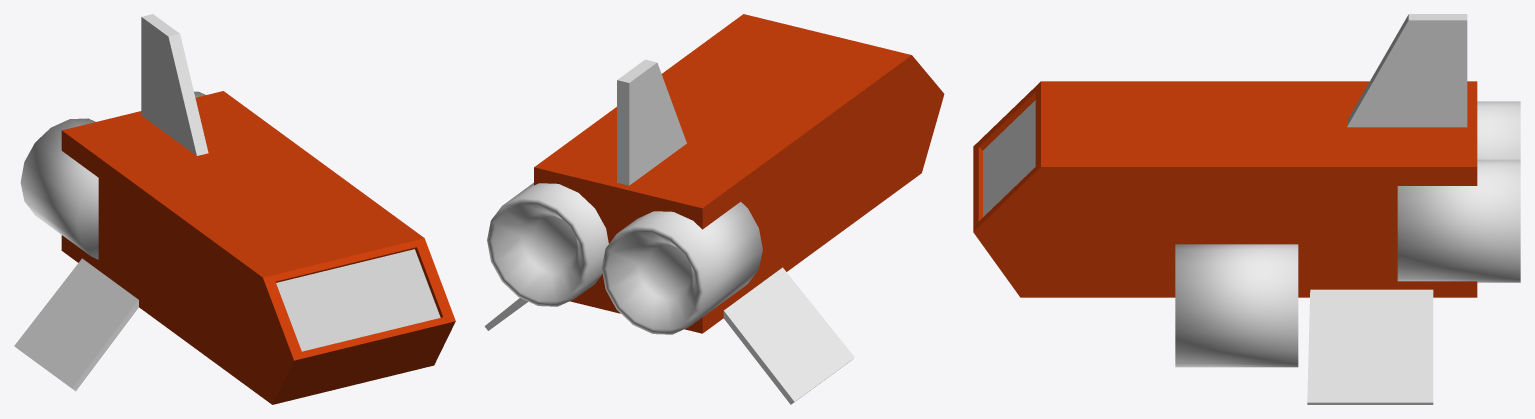
The model's file is nave.dae.
The picture shows the model from 3 angles, left to right: view 1: azimuth 30°, elevation 25°; view 2: azimuth 150°, elevation 25°; view 3: azimuth 270°, elevation 25°; orthographic projection. The views are drawn at different scales.
Visible parts, largest first — view 1: Cube, Cube-004, Cylinder-001, Cube-001; view 2: Cube, Cylinder-001, Cylinder-002, Cube-004, Cube-001; view 3: Cube, Cylinder-003, Cube-003, Cylinder-002, Cube-001, Cylinder-001.
Boxes of the visible parts, left/top/right/bottom form: Cube: left=61, top=91, right=455, bottom=404; Cube-004: left=14, top=258, right=138, bottom=391; Cylinder-001: left=20, top=118, right=98, bottom=259; Cube-001: left=141, top=14, right=208, bottom=155; Cube: left=534, top=14, right=944, bottom=333; Cylinder-001: left=601, top=202, right=762, bottom=334; Cylinder-002: left=487, top=183, right=608, bottom=306; Cube-004: left=723, top=267, right=854, bottom=404; Cube-001: left=617, top=59, right=686, bottom=185; Cube: left=973, top=81, right=1477, bottom=297; Cylinder-003: left=1175, top=244, right=1298, bottom=367; Cube-003: left=1307, top=289, right=1433, bottom=404; Cylinder-002: left=1397, top=159, right=1520, bottom=282; Cube-001: left=1347, top=14, right=1467, bottom=127; Cylinder-001: left=1477, top=101, right=1520, bottom=159.
Bounding box in the file's own units: 6.21 × 5.58 × 8.9.
